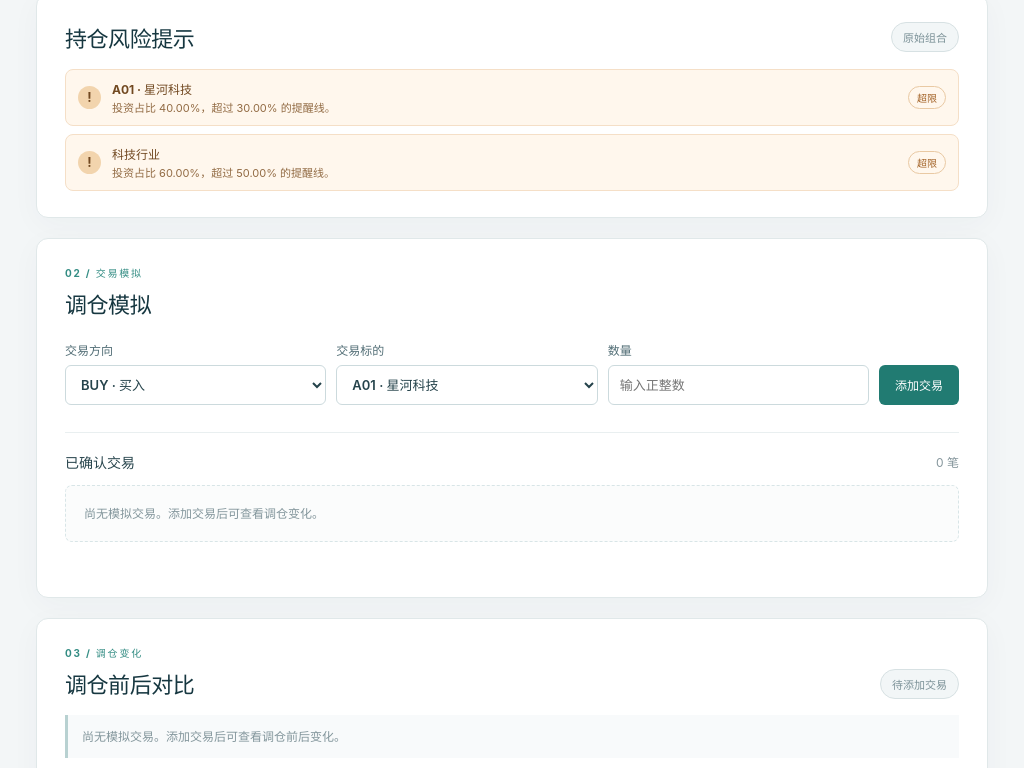
Test: front-end state flow › submits the complete candidate sequence and retains confirmed result after rejection
(page scrolled)
Select "SELL · 卖出" in the dropdown labelled "交易方向": (196,385) [65,365,326,405]
In the number field labelled "数量": (738,385) [608,365,869,405], type "100"
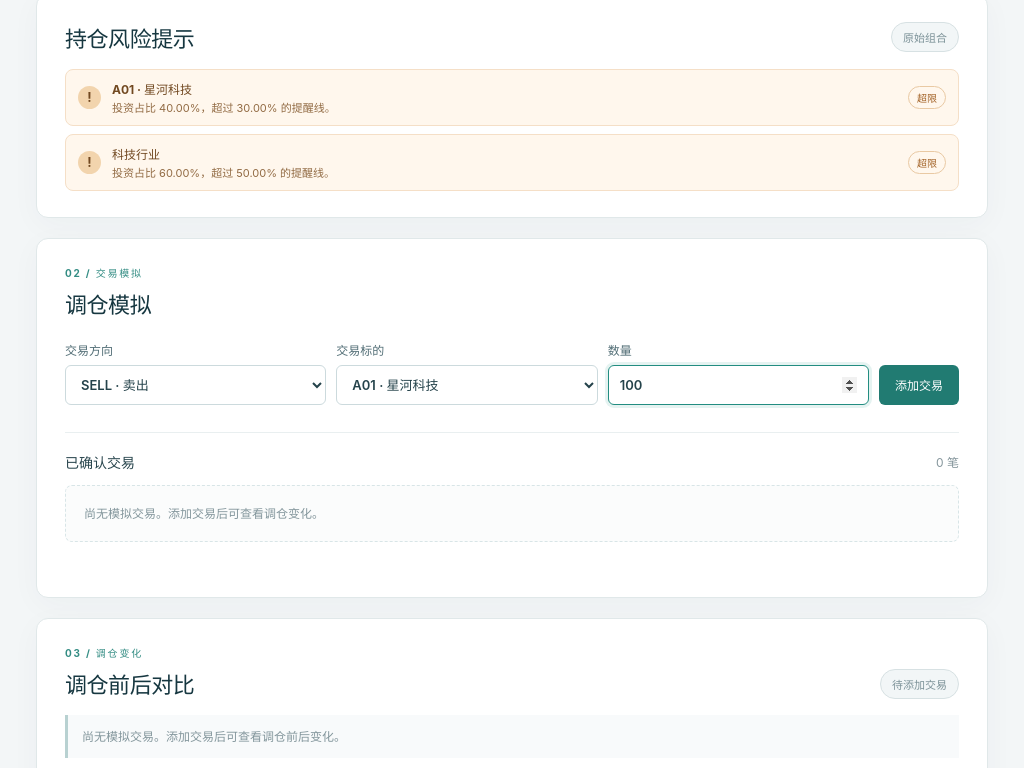
Click the button "添加交易": (919,385) [879,365,959,405]
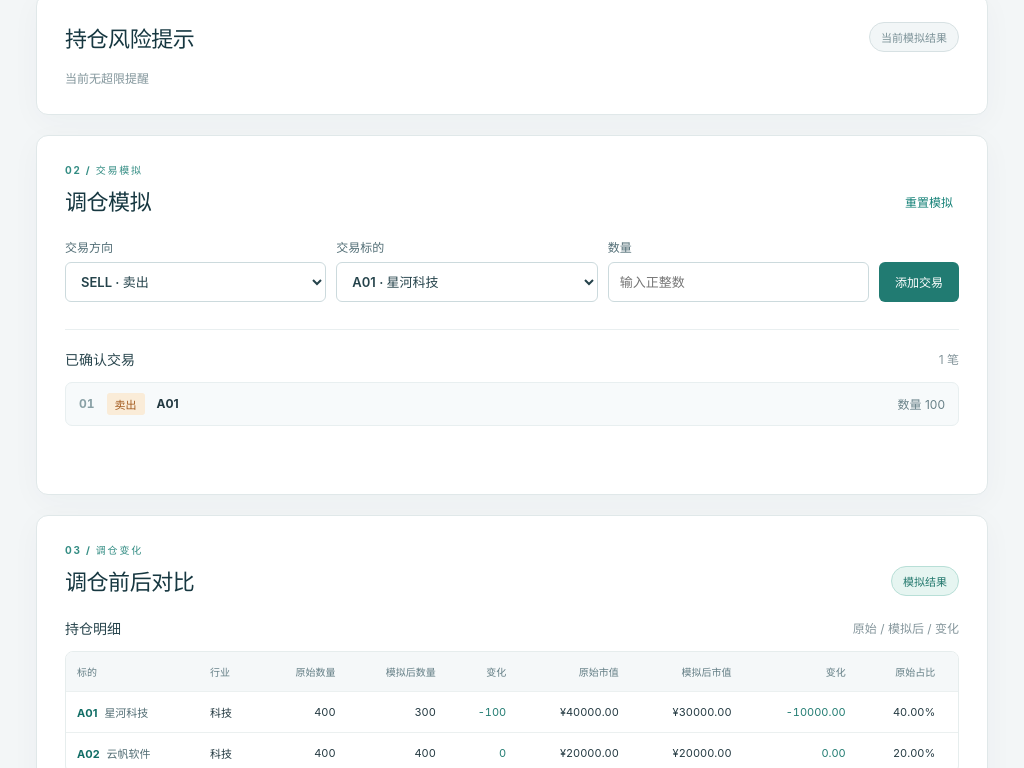
Expected: the text "1 笔" is shown, [939,350,959,368]
Expected: the text "¥30000.00" is shown, [630,692,743,732]
Expected: the text "当前无超限提醒" is shown, [65,71,149,86]
Select "BUY · 买入" in the dropdown labelled "交易方向": (196,282) [65,262,326,302]
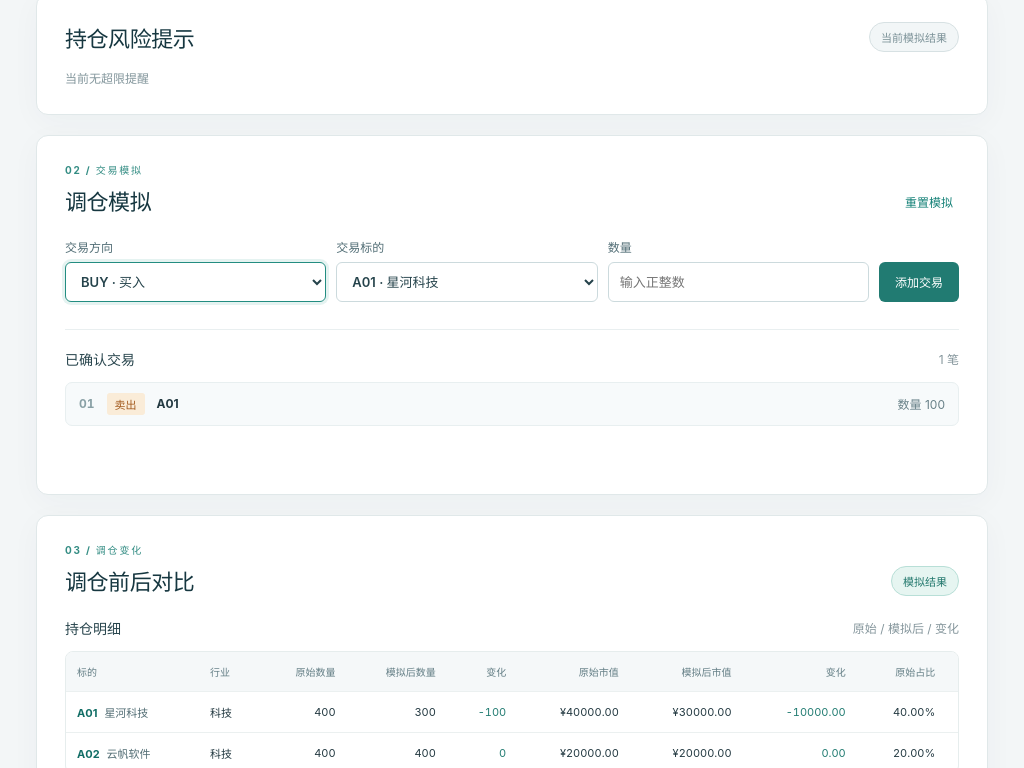
Select "A02 · 云帆软件" in the dropdown labelled "交易标的": (467,282) [336,262,598,302]
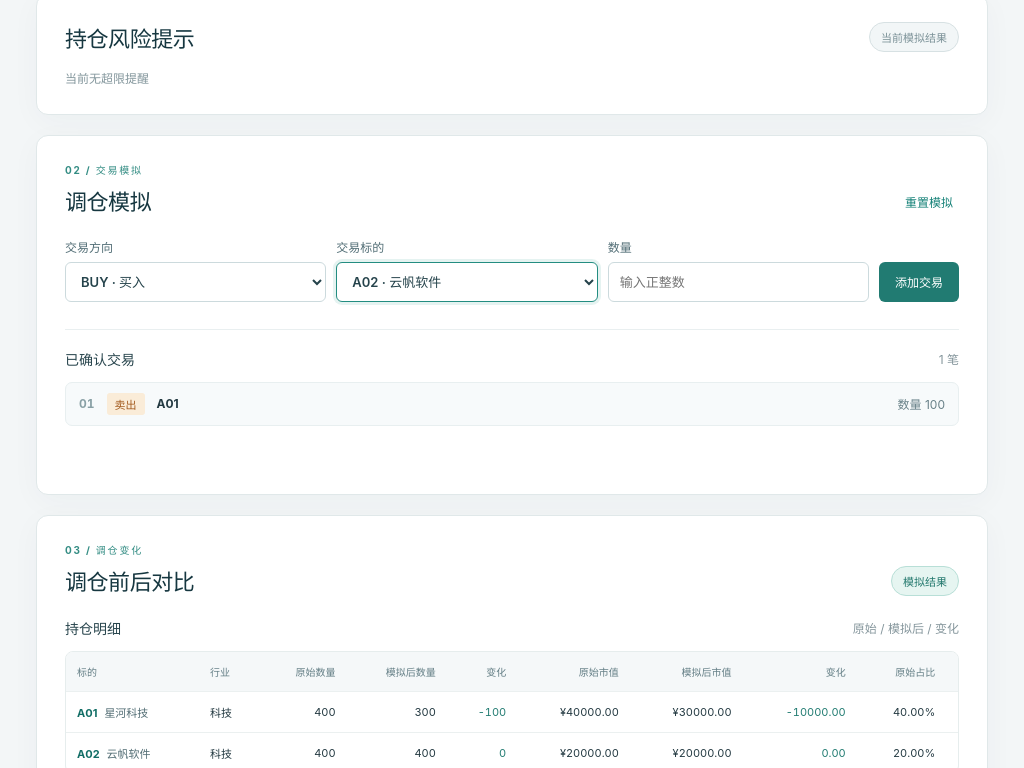
In the number field labelled "数量": (738,282) [608,262,869,302], type "100"
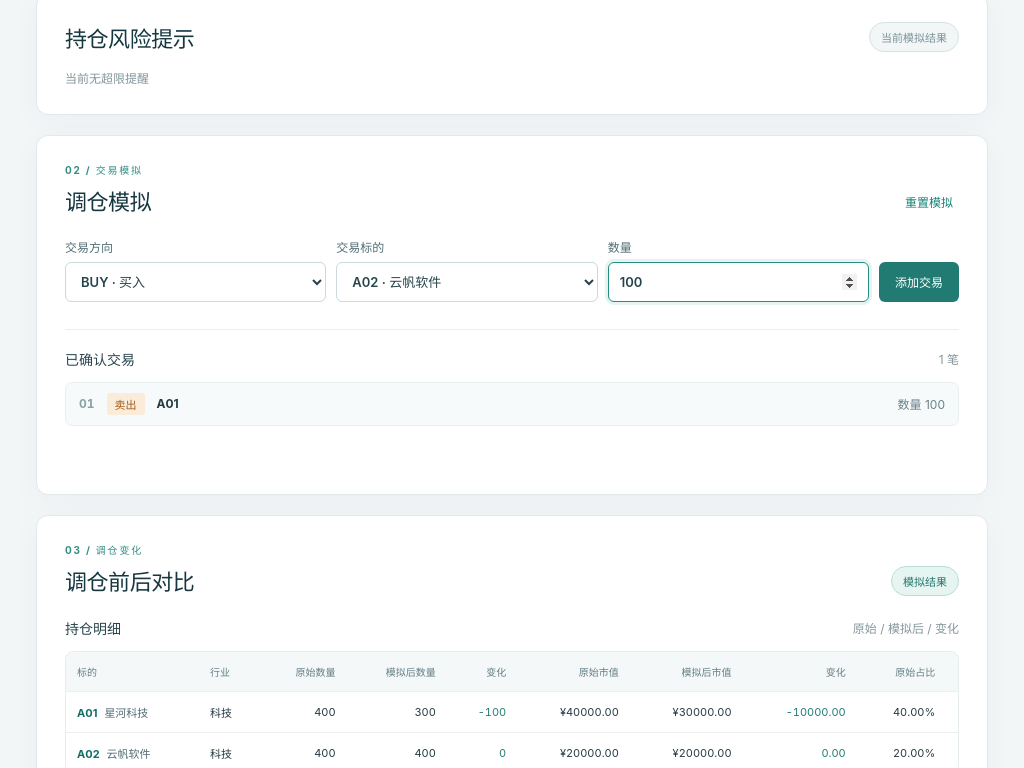
Click the button "添加交易": (919,282) [879,262,959,302]
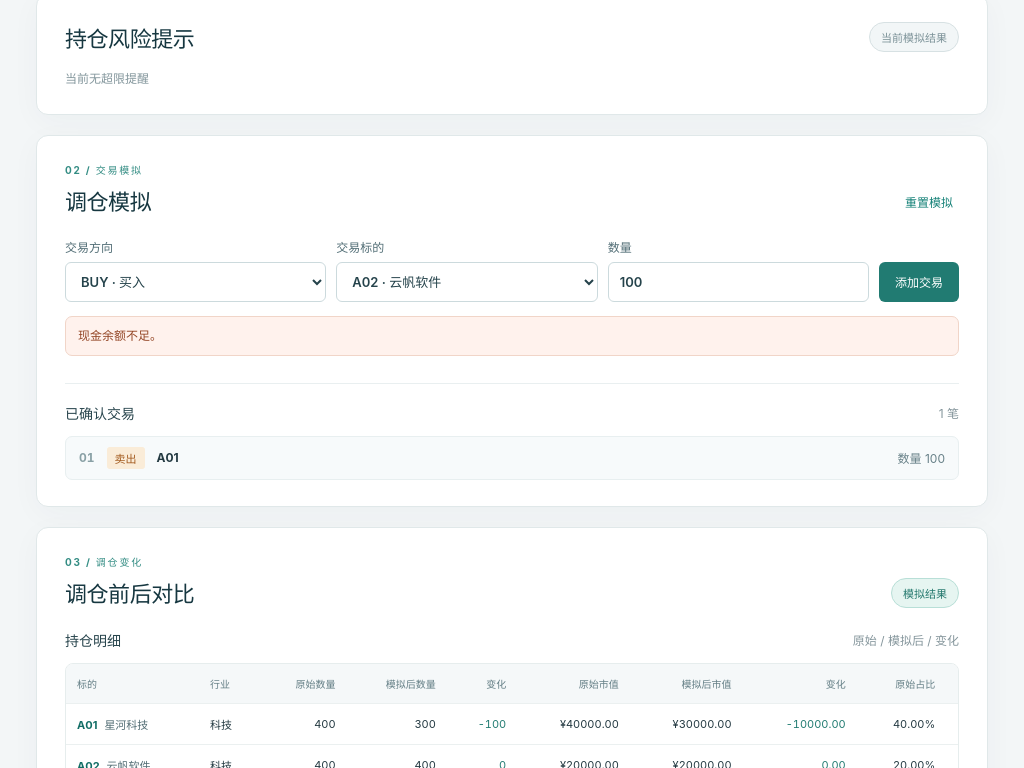
Expected: the text "1 笔" is shown, [939,404,959,422]
Expected: the text "¥30000.00" is shown, [630,704,743,744]
Expected: the text "现金余额不足。" is shown, [65,316,959,356]
